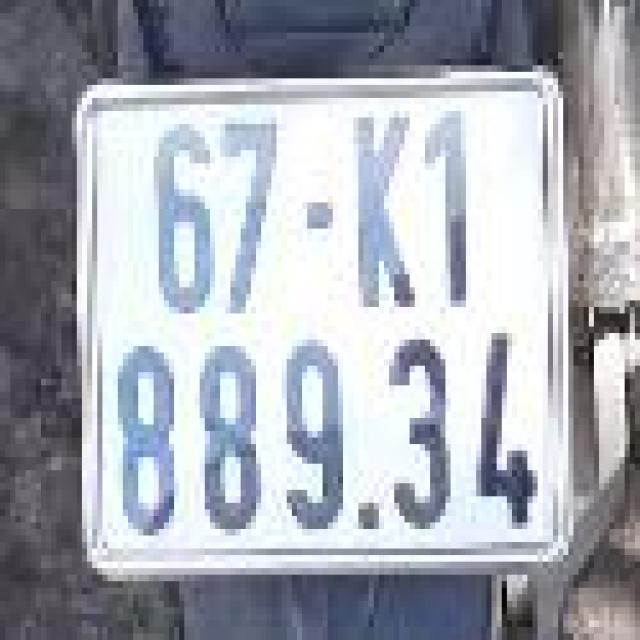1: (420, 98, 486, 313)
3: (382, 330, 453, 532)
4: (466, 327, 543, 542)
6: (140, 108, 218, 316)
7: (218, 108, 289, 316)
8: (102, 333, 180, 529), (190, 340, 261, 536)
9: (274, 333, 351, 542)
K: (346, 98, 422, 313)
